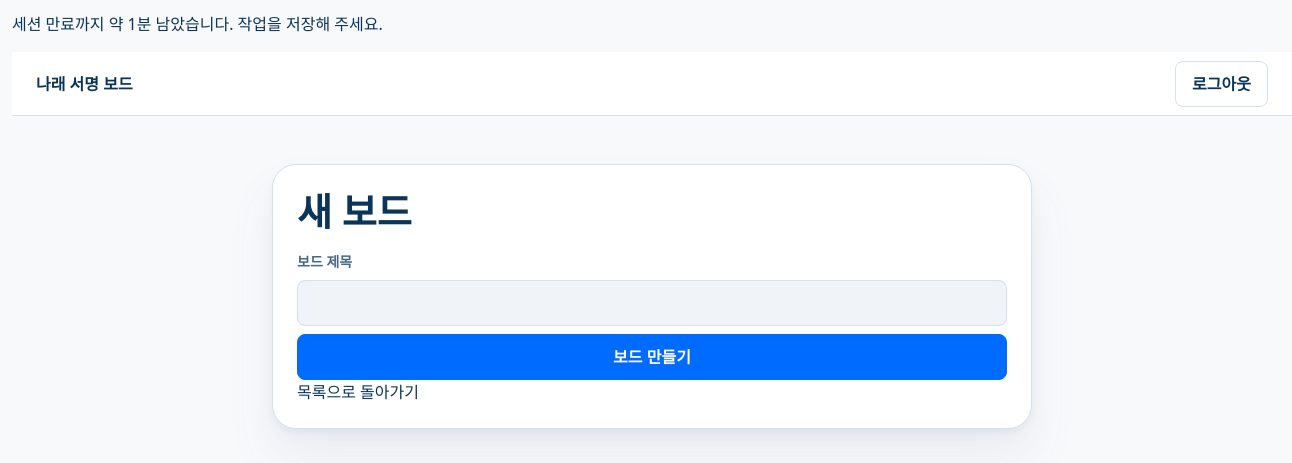
Test: administrator board routes › disables board creation while the server request is pending
The image size is (1292, 463).
Type "대기 중 보드" into the field labelled "보드 제목" at point(652, 303), box [297,280,1007,326]
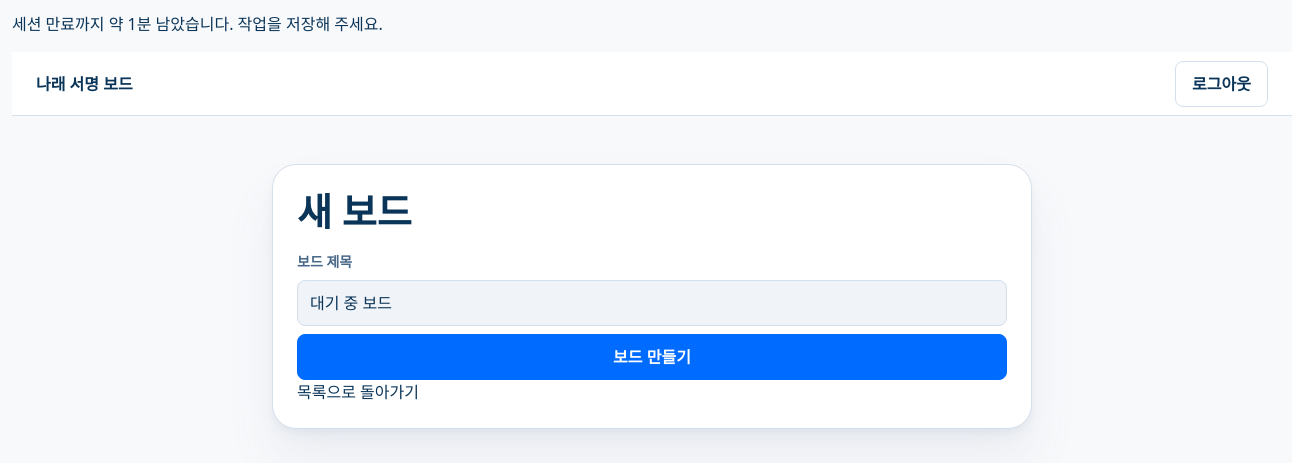
Click the button "보드 만들기" at point(652, 357), box [297,334,1007,380]
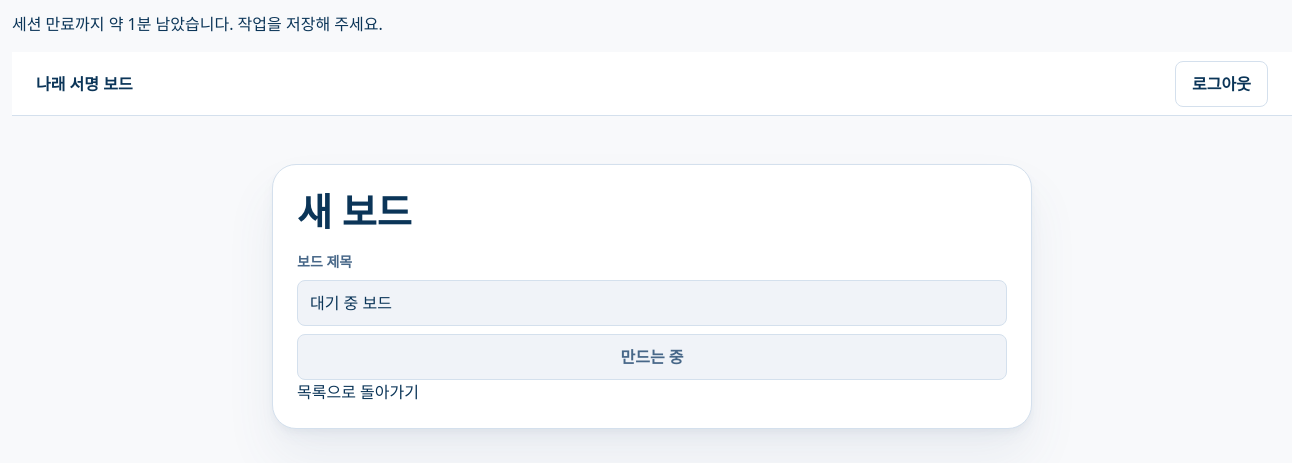
Result: the button "만드는 중" is disabled at [297,334,1007,380]
